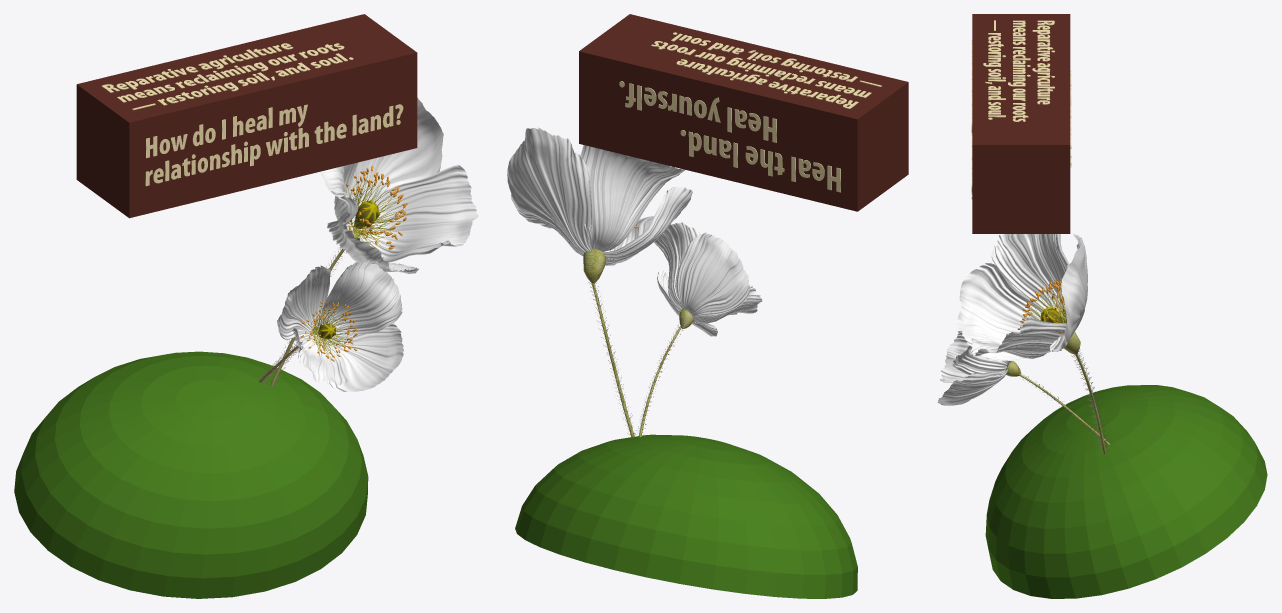
Rendered from BSN_Land_Main.gltf.
3 renders of one model, left to right at view 1: azimuth 30°, elevation 25°; view 2: azimuth 150°, elevation 25°; view 3: azimuth 270°, elevation 25°, orthographic. The views are drawn at different scales.
Parts seen in each view (by area): view 1: ground, agiCopyCubeBrown, poppy 290324 ORANGE XL, poppy 290324 WHITE XL002; view 2: agiCopyCubeBrown, ground, poppy 290324 ORANGE XL, poppy 290324 WHITE XL002; view 3: ground, agiCopyCubeBrown, poppy 290324 ORANGE XL, poppy 290324 WHITE XL002.
Boxes of the visible parts, bbox=[...] form: ground: bbox=[14, 351, 368, 598]; agiCopyCubeBrown: bbox=[76, 14, 417, 218]; poppy 290324 ORANGE XL: bbox=[268, 97, 478, 386]; poppy 290324 WHITE XL002: bbox=[257, 261, 403, 391]; agiCopyCubeBrown: bbox=[579, 14, 908, 211]; ground: bbox=[515, 434, 857, 598]; poppy 290324 ORANGE XL: bbox=[507, 127, 692, 437]; poppy 290324 WHITE XL002: bbox=[638, 222, 762, 436]; ground: bbox=[985, 385, 1267, 598]; agiCopyCubeBrown: bbox=[971, 14, 1071, 233]; poppy 290324 ORANGE XL: bbox=[956, 233, 1108, 453]; poppy 290324 WHITE XL002: bbox=[937, 330, 1109, 445].
Bounding box in the file's own units: 15.93 × 20.56 × 12.89.
Materials: 11 (1 with a texture image).
